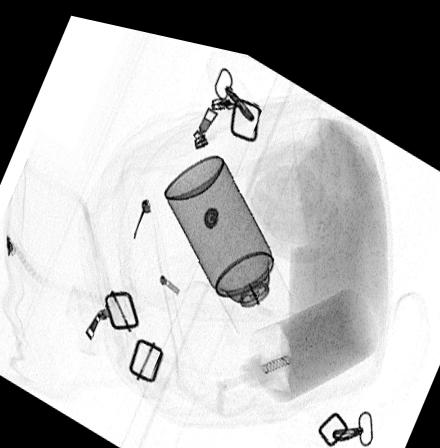Sprayer: (163, 142, 300, 326)
